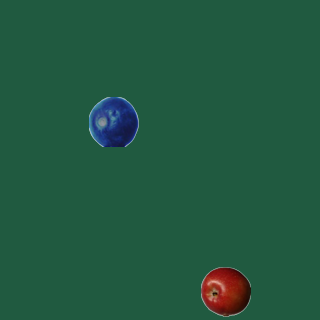Apple Braeburn: (200, 266, 250, 316)
Huckleberry: (88, 96, 138, 146)
